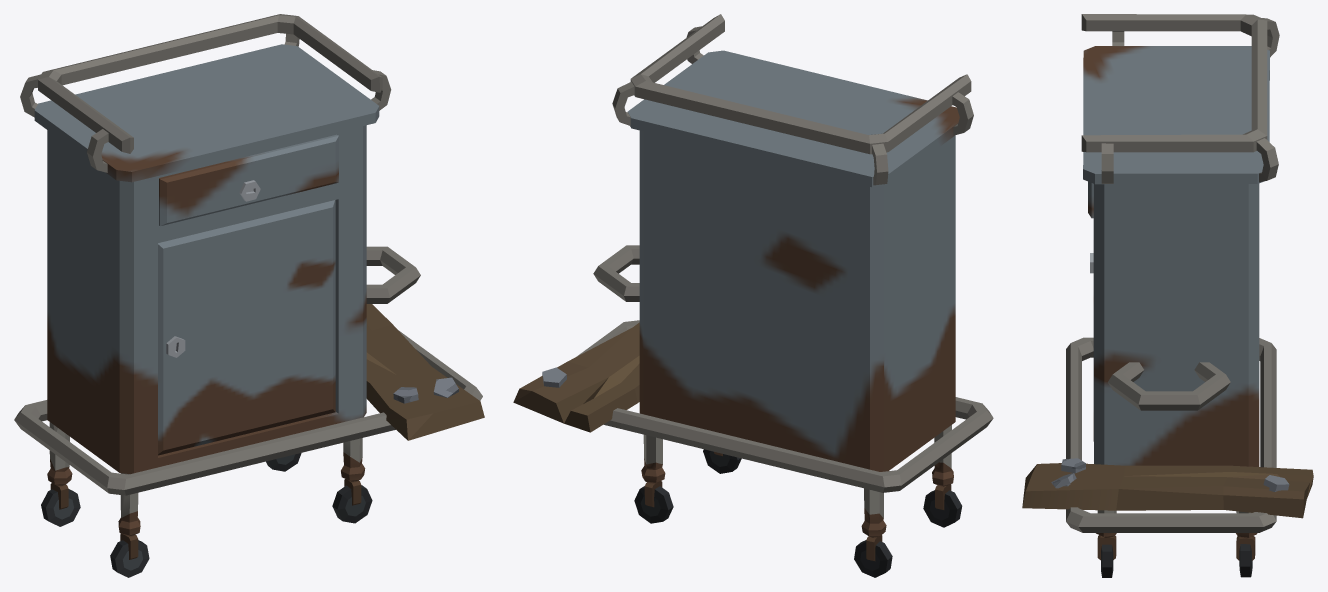
Rendered from SM_Prop_Cupboard_02.fbx.
3 views of the same model, side by side, from view 1: azimuth 30°, elevation 25°; view 2: azimuth 150°, elevation 25°; view 3: azimuth 270°, elevation 25° (orthographic).
Visible parts, largest first — view 1: SM_Prop_Cupboard_02; view 2: SM_Prop_Cupboard_02; view 3: SM_Prop_Cupboard_02.
Part boxes in pixels (left/top/right/bottom): SM_Prop_Cupboard_02: left=14, top=14, right=484, bottom=577; SM_Prop_Cupboard_02: left=513, top=14, right=993, bottom=577; SM_Prop_Cupboard_02: left=1022, top=14, right=1313, bottom=577.
Bounding box in the file's own units: 101 × 116 × 67.98.
